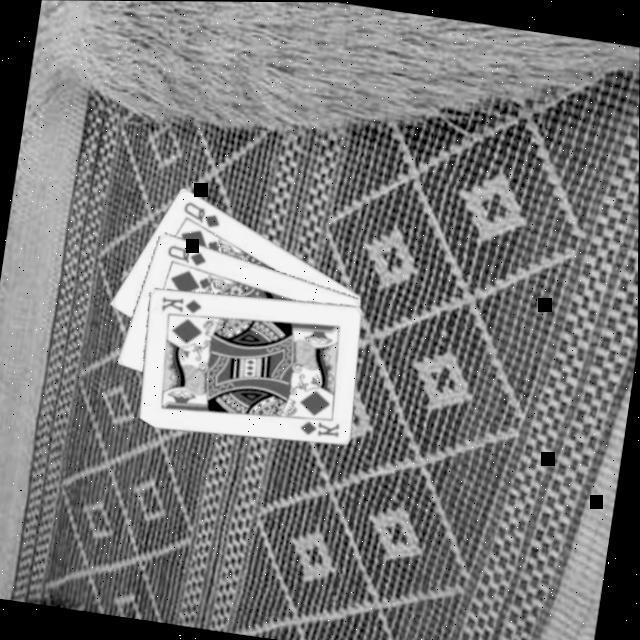KD: (295, 412, 343, 440), (157, 289, 205, 315)
QD: (177, 195, 224, 229), (162, 237, 211, 267)
